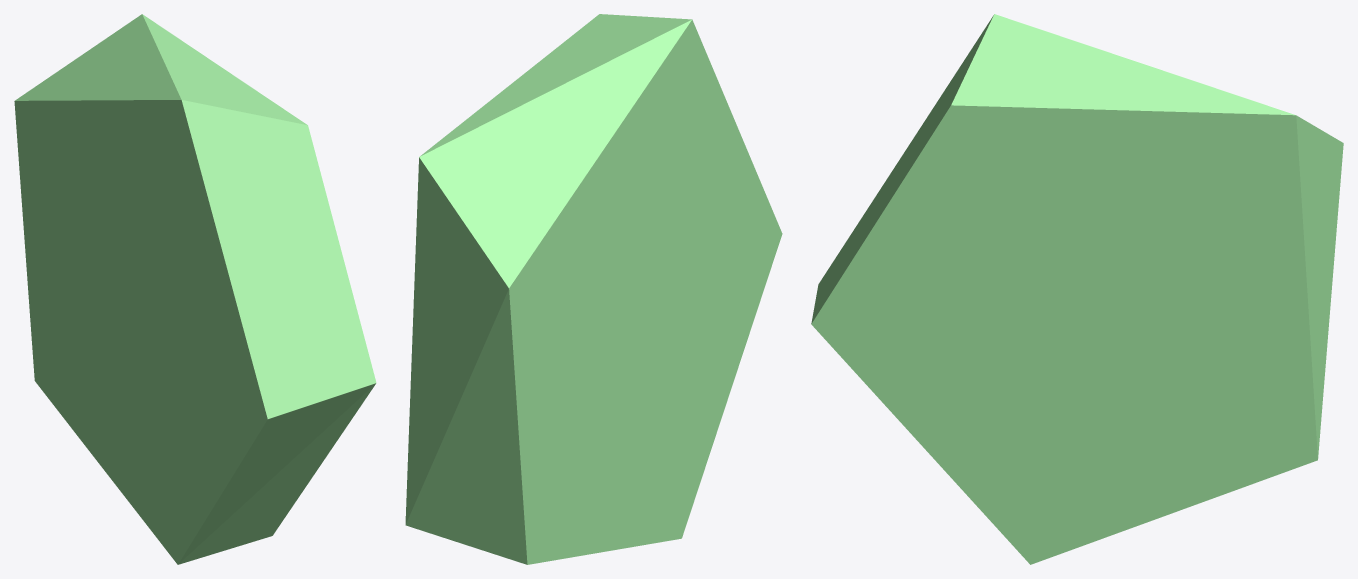
File: linkhou_LR4_R560_link6_respondable_coll_37.dae
The picture shows the model from 3 angles, left to right: view 1: azimuth 30°, elevation 25°; view 2: azimuth 150°, elevation 25°; view 3: azimuth 270°, elevation 25°; orthographic projection. The views are drawn at different scales.
Parts seen in each view (by area): view 1: Node_00000209DB3ABE50; view 2: Node_00000209DB3ABE50; view 3: Node_00000209DB3ABE50.
Boxes of the visible parts, x1,y1,x2,y2 form: Node_00000209DB3ABE50: [14, 14, 376, 564]; Node_00000209DB3ABE50: [405, 14, 782, 564]; Node_00000209DB3ABE50: [811, 14, 1343, 564].
Bounding box in the file's own units: 0.00935 × 0.0392 × 0.0381.
